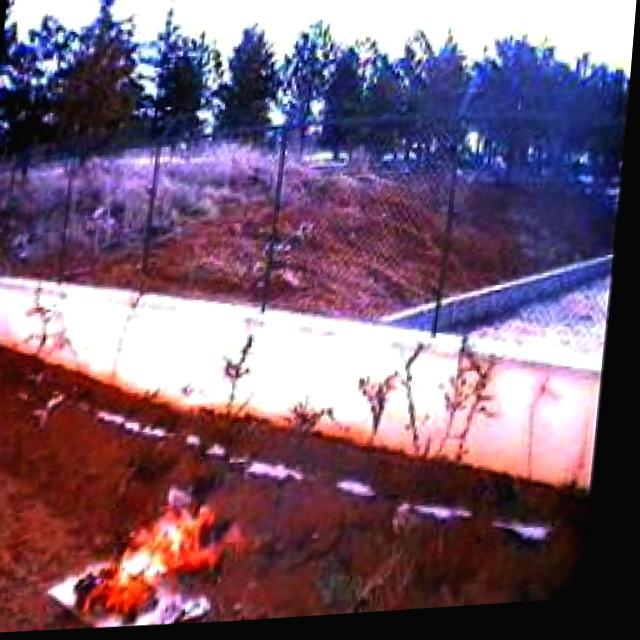helmet: (75, 489, 264, 631)
